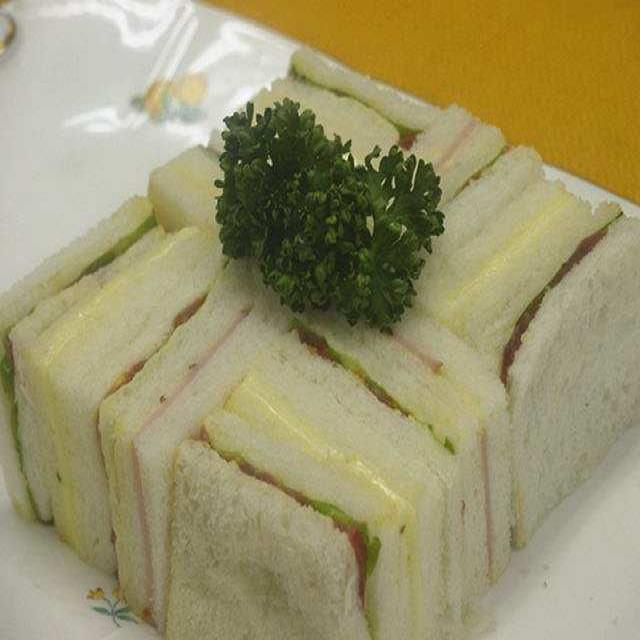三明治: (0, 37, 640, 640)
